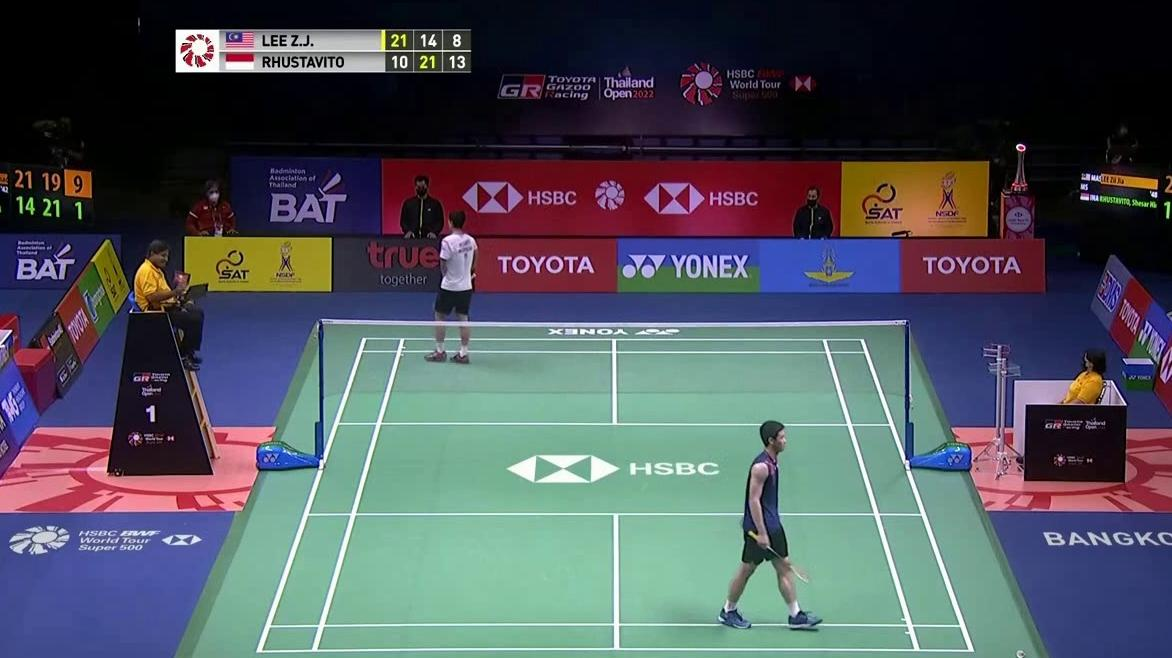racket: (748, 529, 812, 585), (432, 273, 477, 310)
shuttle: (1016, 649, 1026, 658)
